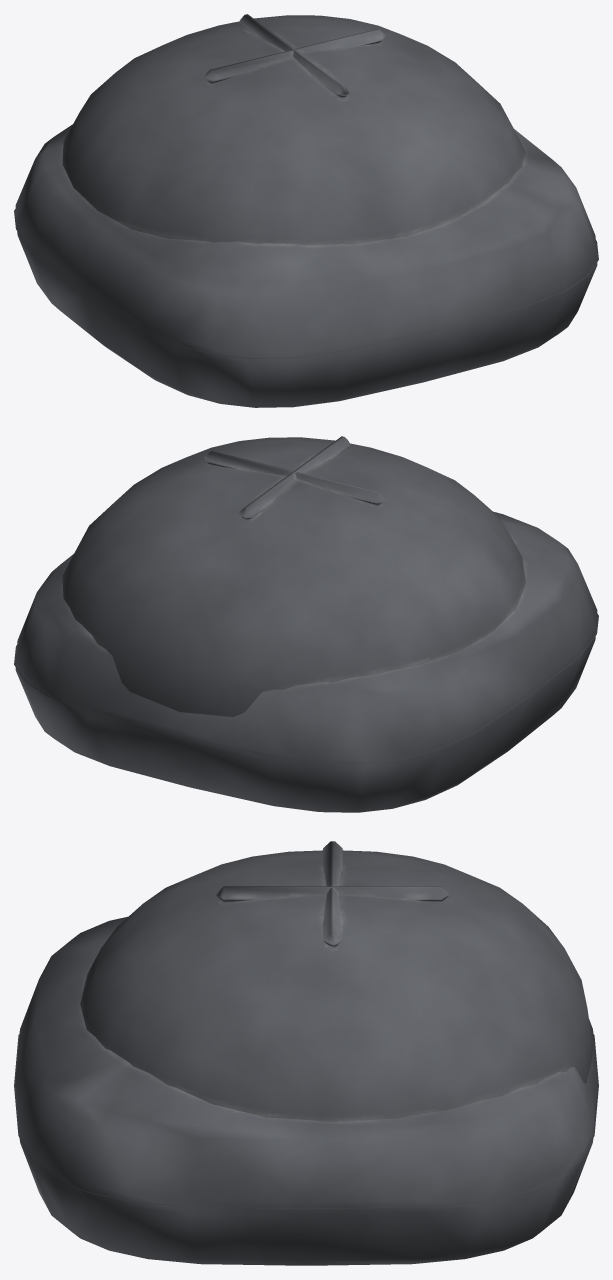
The model's file is Maton_Gorro_Gris.fbx.
3 views of the same model, one above another, from view 1: azimuth 30°, elevation 25°; view 2: azimuth 150°, elevation 25°; view 3: azimuth 270°, elevation 25° (orthographic). The views are drawn at different scales.
Parts seen in each view (by area): view 1: Maton_Gorro_Gris; view 2: Maton_Gorro_Gris; view 3: Maton_Gorro_Gris.
Boxes of the visible parts, x1,y1,x2,y2 form: Maton_Gorro_Gris: (14,14,598,407); Maton_Gorro_Gris: (14,436,598,812); Maton_Gorro_Gris: (14,841,598,1265).
Size of the model in its own units: 1.58 by 0.9552 by 1.58.
